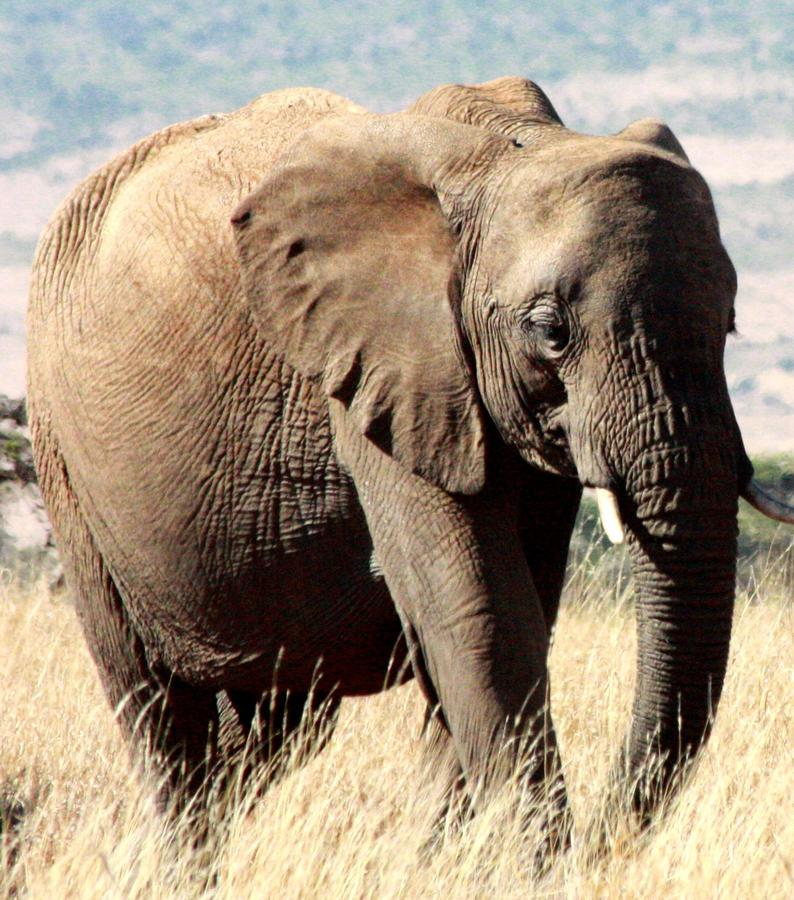elephant: (212, 102, 774, 561)
